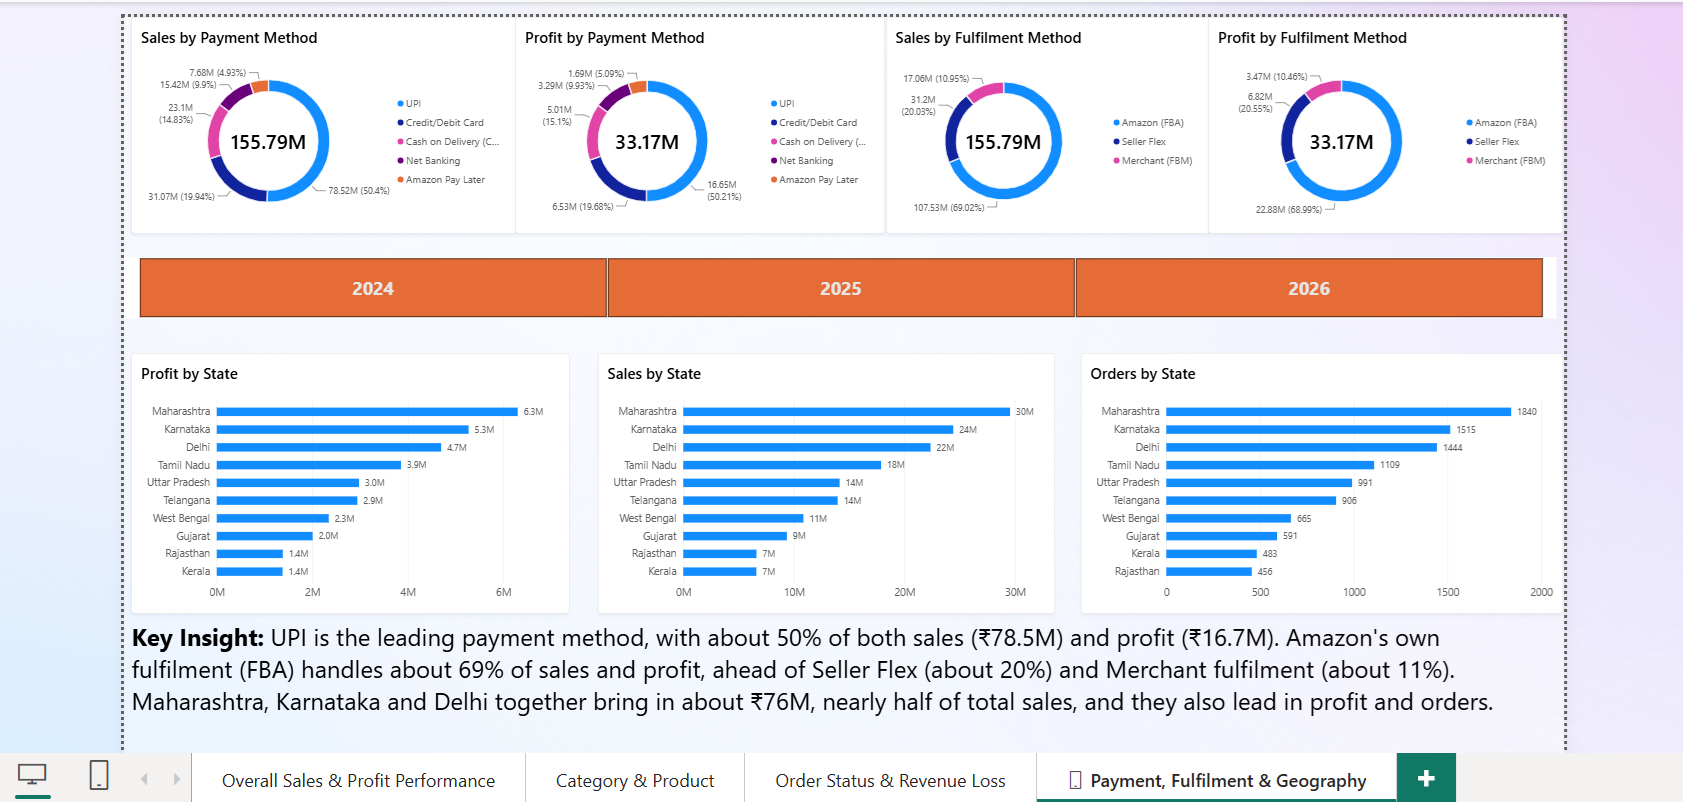

The page's visual inventory and layout, read from the dashboard file:
{"tool":"powerbi","page":{"name":"Payment, Fulfilment & Geography","canvas":[1920,1080],"ordinal":3},"visuals":[{"type":"donutChart","title":"Sales by Payment Method","fields":{"Category":["sales.Payment_Method"],"Y":["sales.Total Sales"]},"box":[9.1,0,513.3,288.5],"z":0},{"type":"donutChart","title":"Profit by Payment Method","fields":{"Category":["sales.Payment_Method"],"Y":["sales.Total Profit"]},"box":[522.4,0,492.9,288.5],"z":1},{"type":"donutChart","title":"Sales by Fulfilment Method","fields":{"Category":["sales.Fulfillment"],"Y":["sales.Total Sales"]},"box":[1015.3,0,431.5,288.5],"z":2},{"type":"donutChart","title":"Profit by Fulfilment Method","fields":{"Category":["sales.Fulfillment"],"Y":["sales.Total Profit"]},"box":[1446.8,0,472.4,288.5],"z":3},{"type":"clusteredBarChart","title":"Profit by State","fields":{"Category":["sales.Ship_State"],"Y":["sales.Total Profit"]},"box":[9.1,447.4,583.7,347.5],"z":4},{"type":"clusteredBarChart","title":"Sales by State","fields":{"Category":["sales.Ship_State"],"Y":["sales.Total Sales"]},"box":[631.4,447.4,608.7,347.5],"z":5},{"type":"clusteredBarChart","title":"Orders by State","fields":{"Category":["sales.Ship_State"],"Y":["sales.Total Orders"]},"box":[1276.5,447.4,642.8,347.5],"z":6},{"type":"textbox","box":[9.1,804,1876.1,274.8],"z":8},{"type":"slicer","fields":{"Values":["sales.Year"]},"box":[0,320.3,1910.2,81.8],"z":9}]}

Visuals, with their boxes on the page's 1920x1080 design canvas (x1, y1, x2, y2). These are canvas units, not pixel positions in the 1683x802 screenshot, which may show the page scaled, cropped or inside an application window:
"Sales by Payment Method" donutChart: 9,0,522,288
"Profit by Payment Method" donutChart: 522,0,1015,288
"Sales by Fulfilment Method" donutChart: 1015,0,1447,288
"Profit by Fulfilment Method" donutChart: 1447,0,1919,288
"Profit by State" clusteredBarChart: 9,447,593,795
"Sales by State" clusteredBarChart: 631,447,1240,795
"Orders by State" clusteredBarChart: 1276,447,1919,795
textbox: 9,804,1885,1079
slicer - sales.Year: 0,320,1910,402
